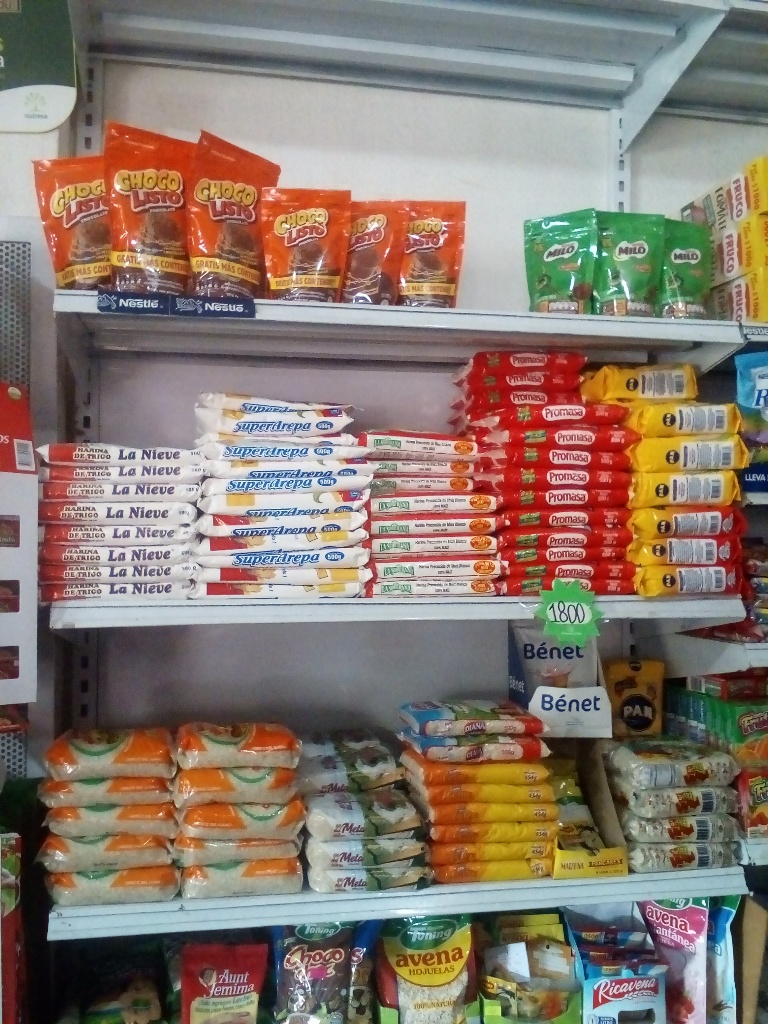COL0170203DYP10000: (517, 204, 595, 319)
